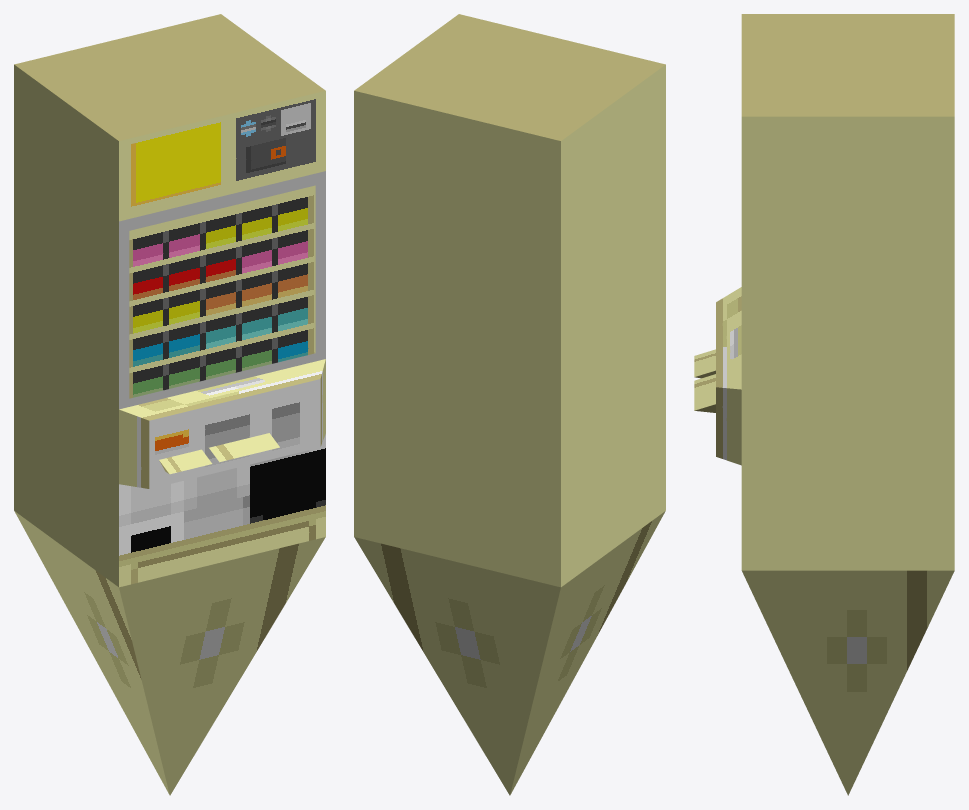
3 renders of one model, left to right at view 1: azimuth 30°, elevation 25°; view 2: azimuth 150°, elevation 25°; view 3: azimuth 270°, elevation 25°, orthographic.
Visible parts, largest first — view 1: 3753kg_sh0_00; view 2: 3753kg_sh0_00; view 3: 3753kg_sh0_00.
Boxes of the visible parts, x1,y1,x2,y2 form: 3753kg_sh0_00: [14, 14, 325, 795]; 3753kg_sh0_00: [354, 14, 665, 795]; 3753kg_sh0_00: [694, 14, 954, 795].
Bounding box in the file's own units: 0.8633 × 2.86 × 0.9258.
Materials: 3 (3 with a texture image).
